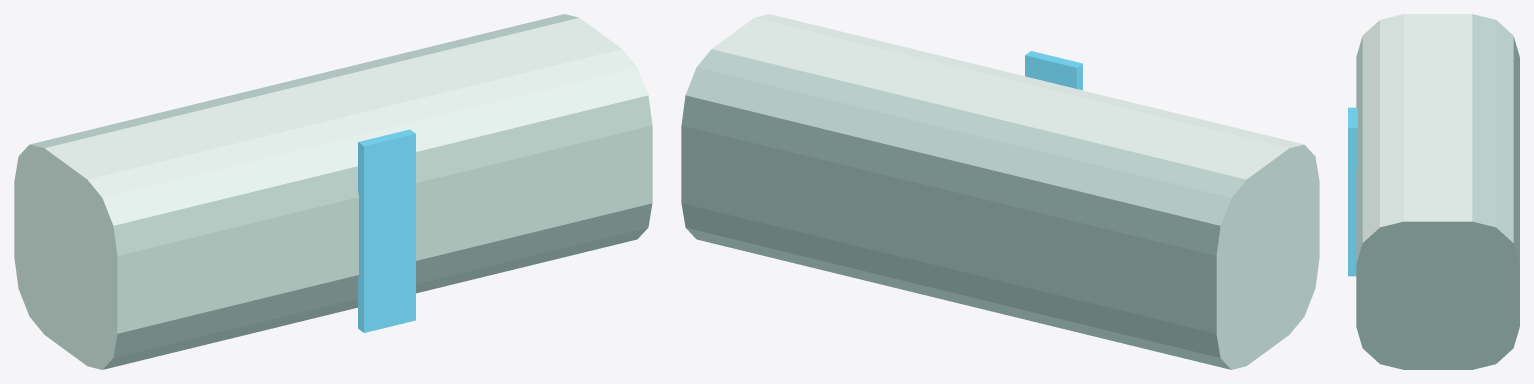
The model's file is Door_LeafFolded.gltf.
3 renders of one model, left to right at view 1: azimuth 30°, elevation 25°; view 2: azimuth 150°, elevation 25°; view 3: azimuth 270°, elevation 25°, orthographic. The views are drawn at different scales.
Parts seen in each view (by area): view 1: Door_LeafFolded_baked; view 2: Door_LeafFolded_baked; view 3: Door_LeafFolded_baked.
Boxes of the visible parts, left/top/right/bottom form: Door_LeafFolded_baked: left=14, top=14, right=652, bottom=369; Door_LeafFolded_baked: left=681, top=14, right=1319, bottom=369; Door_LeafFolded_baked: left=1348, top=14, right=1519, bottom=369.
Bounding box in the file's own units: 0.72 × 0.24 × 0.252.
